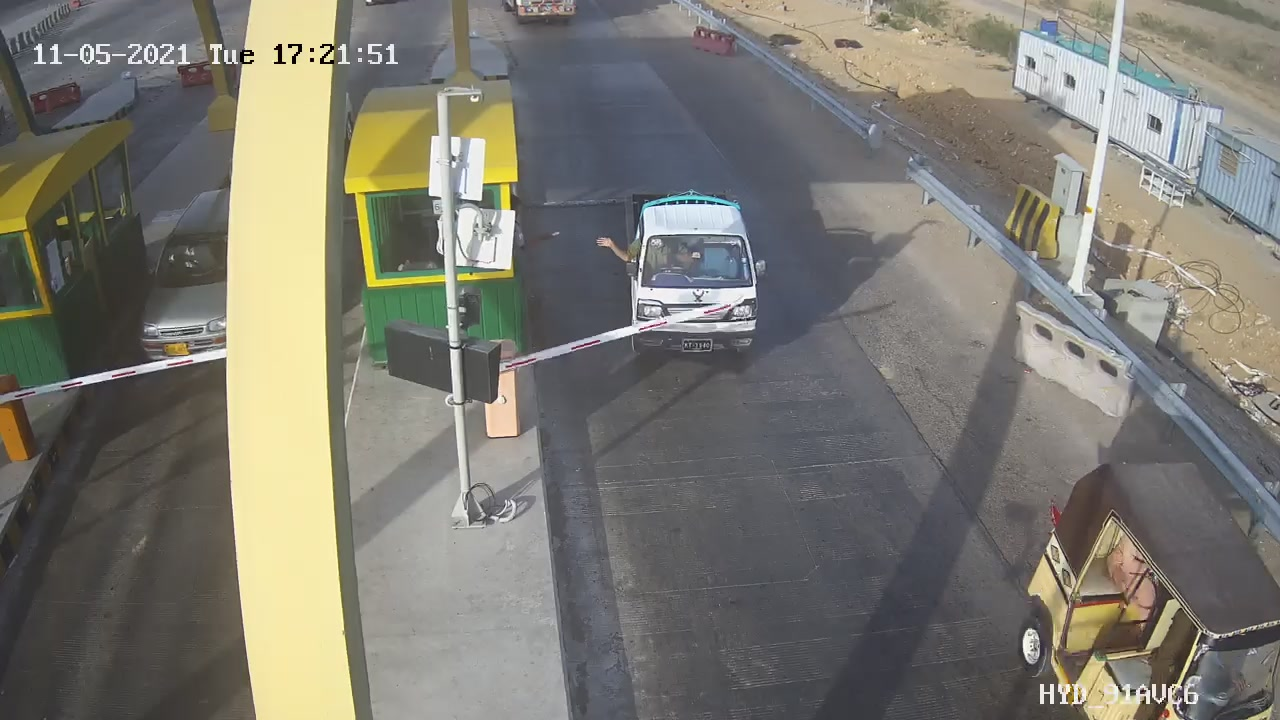F1: (596, 170, 781, 378)
